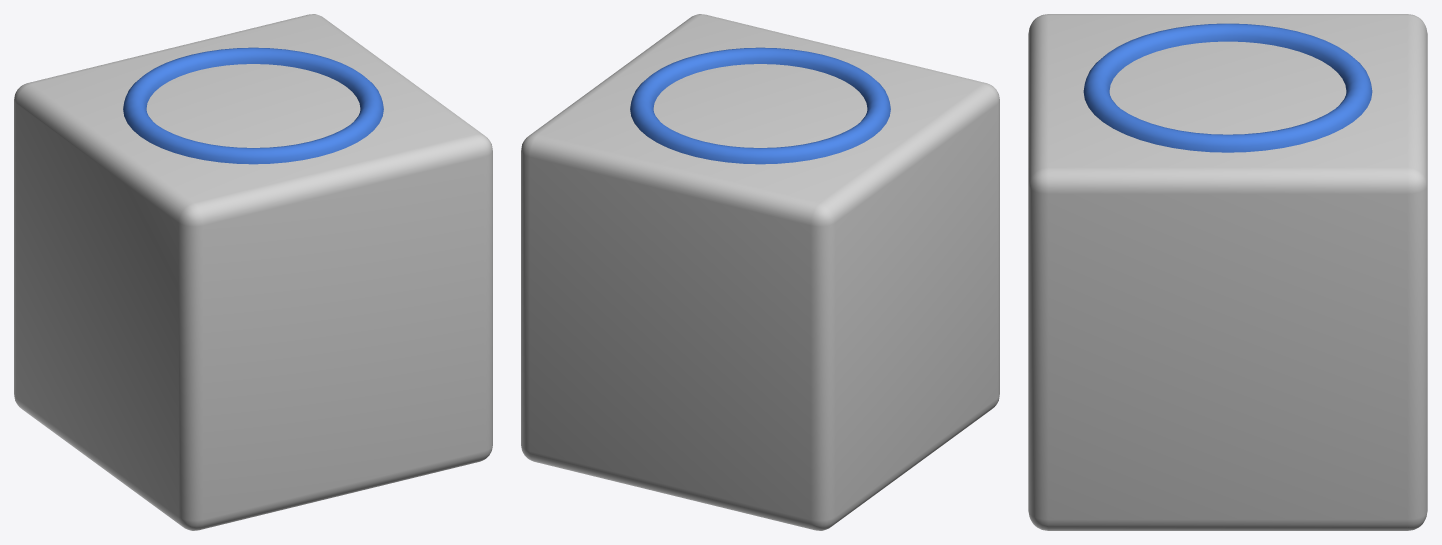
Rendered from glow-cube.dae.
3 renders of one model, left to right at view 1: azimuth 30°, elevation 25°; view 2: azimuth 150°, elevation 25°; view 3: azimuth 270°, elevation 25°, orthographic. The views are drawn at different scales.
Parts seen in each view (by area): view 1: Cube, Torus; view 2: Cube, Torus; view 3: Cube, Torus.
Boxes of the visible parts, x1,y1,x2,y2 form: Cube: (14, 14, 492, 530); Torus: (123, 47, 383, 164); Cube: (521, 14, 999, 530); Torus: (630, 47, 890, 164); Cube: (1028, 14, 1427, 530); Torus: (1083, 23, 1372, 152).
Size of the model in its own units: 2 by 2 by 2.06.
